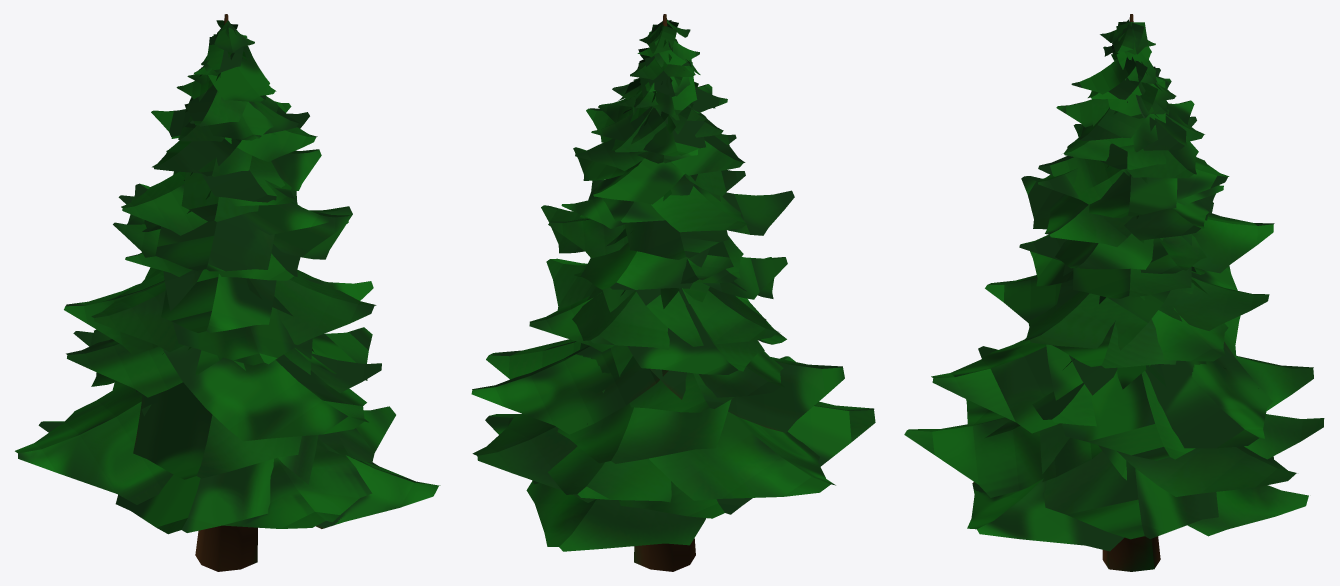
The model's file is pineTreeSkin.fbx.
3 renders of one model, left to right at view 1: azimuth 30°, elevation 25°; view 2: azimuth 150°, elevation 25°; view 3: azimuth 270°, elevation 25°, orthographic.
Visible parts, largest first — view 1: Tree; view 2: Tree; view 3: Tree.
Part boxes in pixels (x1,y1,x2,y2): Tree: (15, 14, 440, 571); Tree: (471, 14, 875, 571); Tree: (904, 14, 1324, 571).
Bounding box in the file's own units: 1831 × 2639 × 1850.
